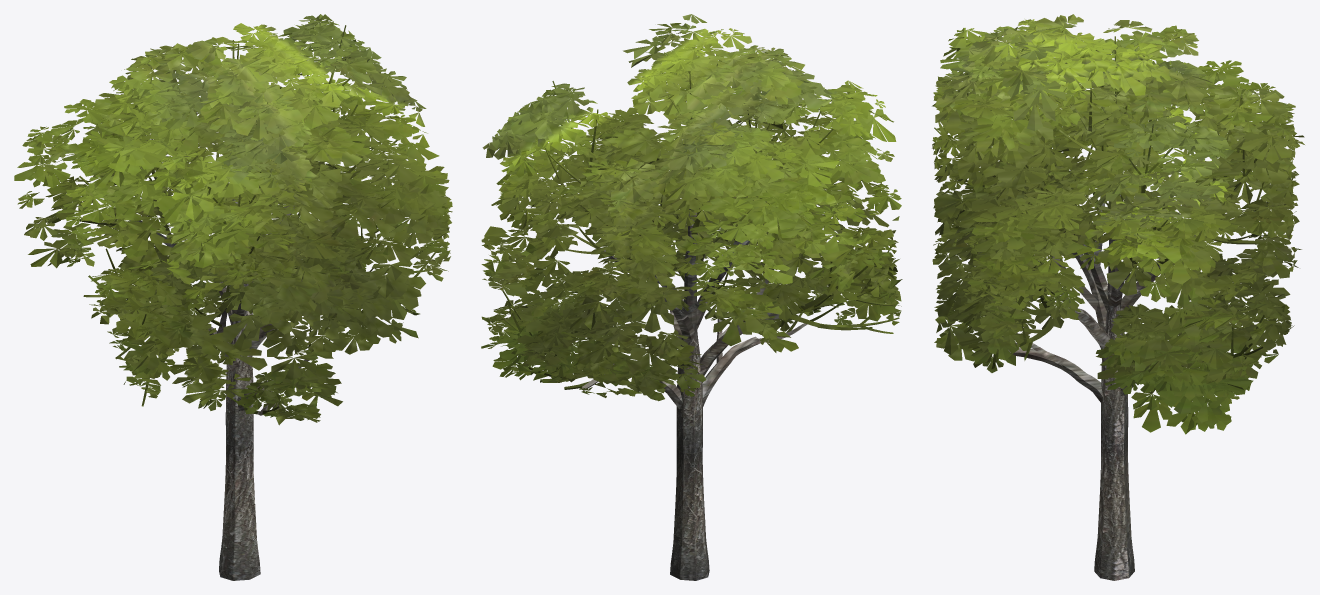
Rendered from tree_13.glb.
3 renders of one model, left to right at view 1: azimuth 30°, elevation 25°; view 2: azimuth 150°, elevation 25°; view 3: azimuth 270°, elevation 25°, orthographic. The views are drawn at different scales.
Visible parts, largest first — view 1: MainBuilding; view 2: MainBuilding; view 3: MainBuilding.
Boxes of the visible parts, x1,y1,x2,y2 form: MainBuilding: (14,14,452,580); MainBuilding: (481,14,902,580); MainBuilding: (932,14,1304,580).
Bounding box in the file's own units: 6.85 × 9.99 × 6.17.
Materials: 1 (1 with a texture image).
